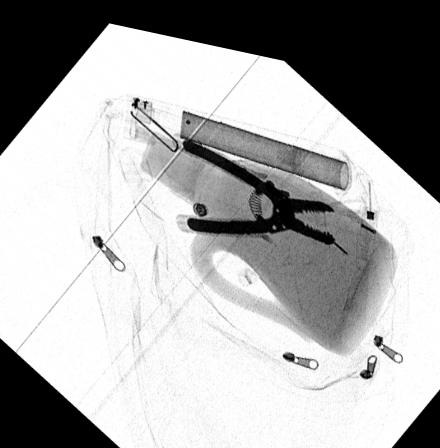Pliers: (179, 127, 334, 230)
